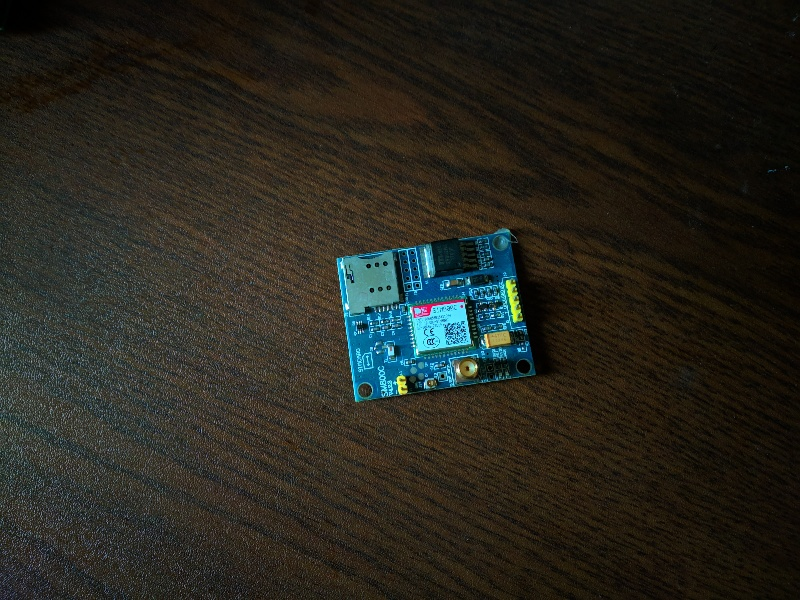SIM800: (331, 227, 546, 405)
